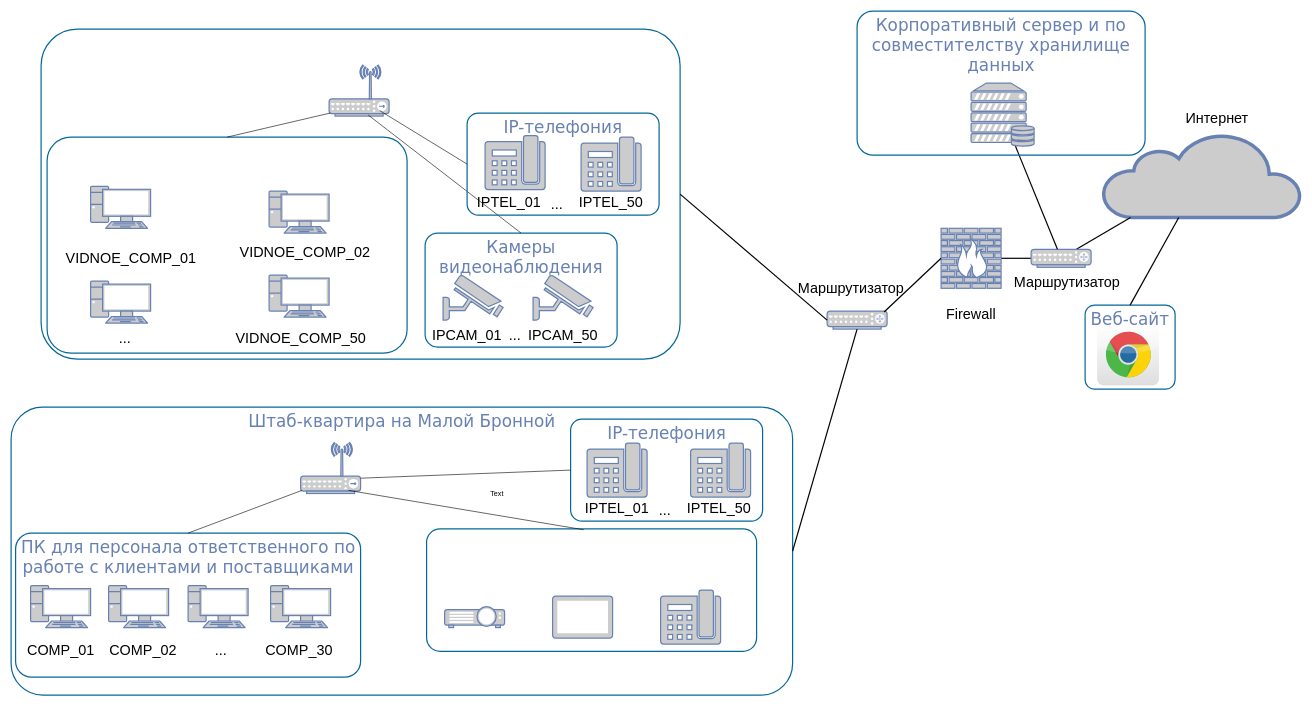
Image size: 1312x706. Some labels were removed from this diagram. Here are the shapes that lost their labels. From the top down, the box of each, then its label:
(40, 28, 680, 359): Склад в городе Видное
(1102, 133, 1301, 218): Internet
(46, 136, 407, 353): ПК с ПО для обслуживания склада, слежения за поставками и тд.
(426, 528, 757, 652): Оборудование для онлайн-конференций и презентации проектов
